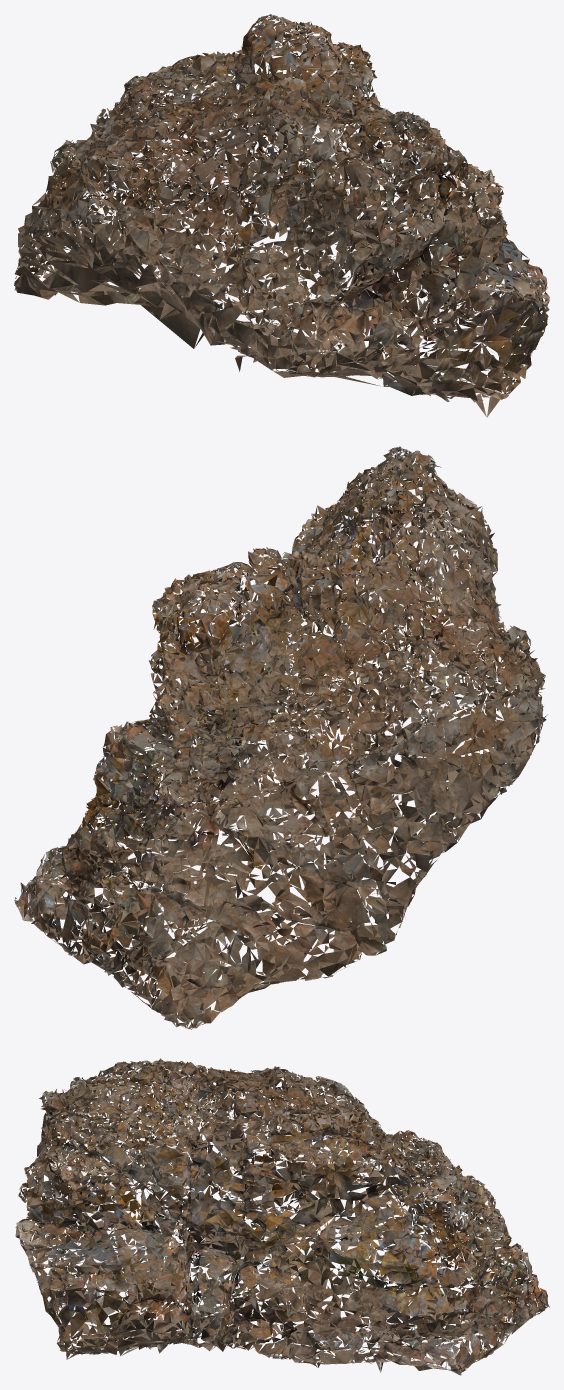
Rendered from boulder_01.fbx.
The picture shows the model from 3 angles, top to bottom: view 1: azimuth 30°, elevation 25°; view 2: azimuth 150°, elevation 25°; view 3: azimuth 270°, elevation 25°; orthographic projection. The views are drawn at different scales.
Parts seen in each view (by area): view 1: boulder_01; view 2: boulder_01; view 3: boulder_01.
Boxes of the visible parts, bbox=[...] form: boulder_01: bbox=[14, 14, 549, 417]; boulder_01: bbox=[14, 446, 547, 1029]; boulder_01: bbox=[15, 1058, 549, 1375].
Bounding box in the file's own units: 1.28 × 1.01 × 1.84.
Materials: 1 (1 with a texture image).
